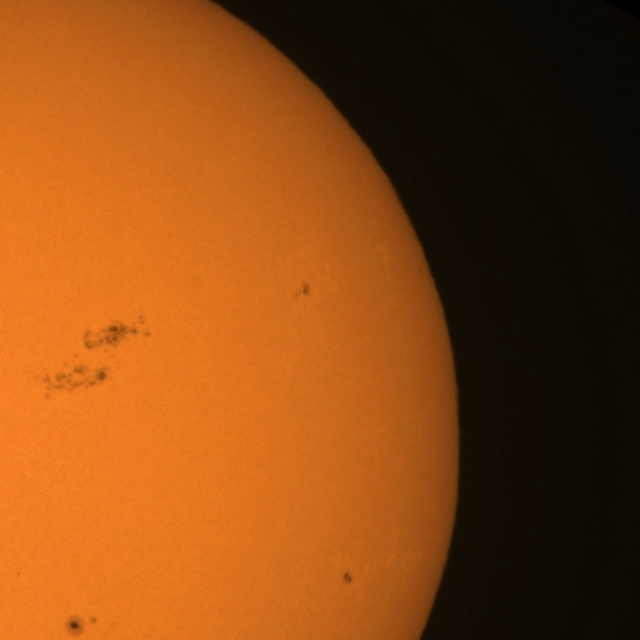sunspot: (31, 349, 110, 403), (88, 314, 155, 353), (66, 613, 99, 636), (292, 280, 312, 302), (341, 570, 354, 586), (89, 615, 98, 626)
